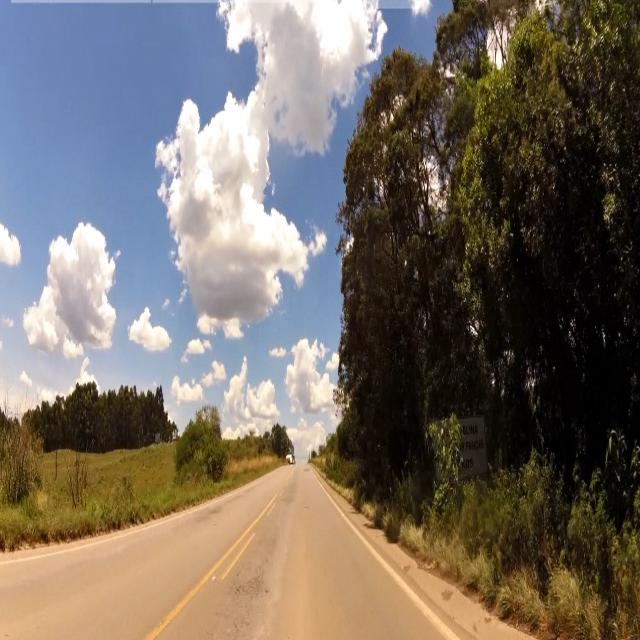E-5: (437, 414, 491, 478)
